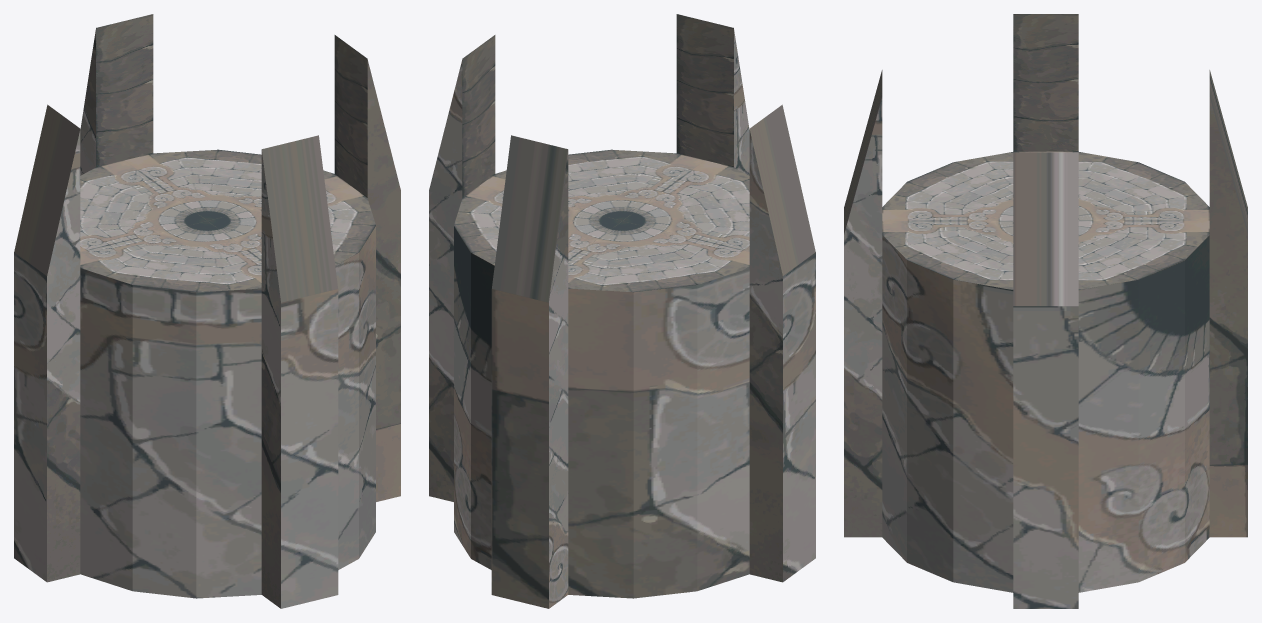
Rendered from Arena.glb.
3 renders of one model, left to right at view 1: azimuth 30°, elevation 25°; view 2: azimuth 150°, elevation 25°; view 3: azimuth 270°, elevation 25°, orthographic.
Parts seen in each view (by area): view 1: Cylinder; view 2: Cylinder; view 3: Cylinder.
Part boxes in pixels (box(x1,y1,x2,y2)): Cylinder: box(14, 14, 400, 608); Cylinder: box(429, 14, 815, 608); Cylinder: box(844, 14, 1247, 608).
Bounding box in the file's own units: 2.42 × 2.91 × 2.42.
Materials: 1 (1 with a texture image).
